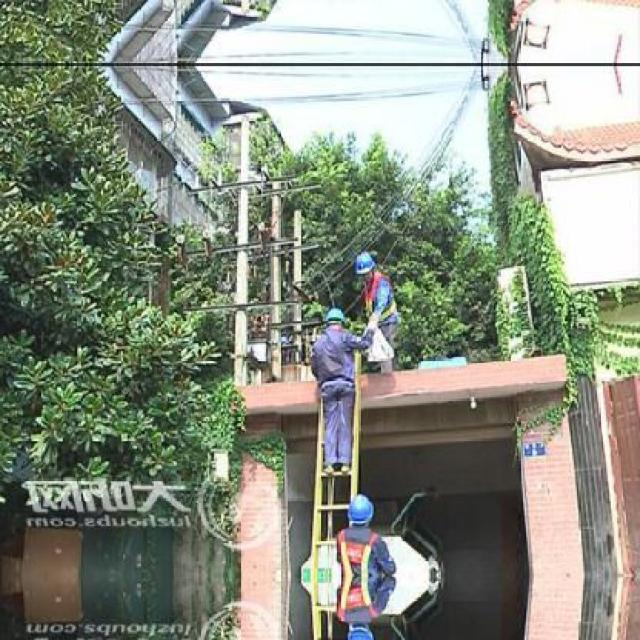Reflective-Jacket: (332, 528, 388, 615), (303, 329, 371, 391), (357, 274, 401, 328)
Safety-Helmet: (346, 246, 382, 280), (345, 491, 377, 526), (317, 302, 351, 329)
